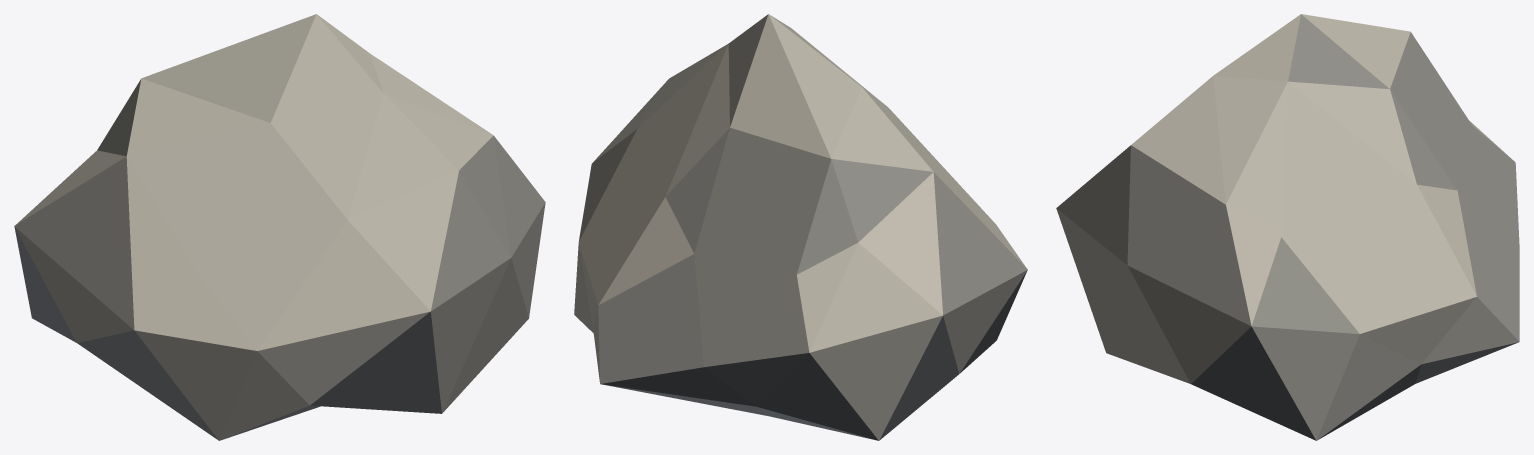
The model's file is SM_Rock_B.fbx.
3 renders of one model, left to right at view 1: azimuth 30°, elevation 25°; view 2: azimuth 150°, elevation 25°; view 3: azimuth 270°, elevation 25°, orthographic. The views are drawn at different scales.
Parts seen in each view (by area): view 1: SM_Rock_B; view 2: SM_Rock_B; view 3: SM_Rock_B.
Boxes of the visible parts, x1,y1,x2,y2 form: SM_Rock_B: (14, 14, 545, 440); SM_Rock_B: (574, 14, 1027, 440); SM_Rock_B: (1056, 14, 1519, 440).
Size of the model in its own units: 1.02 by 0.754 by 0.9401.
